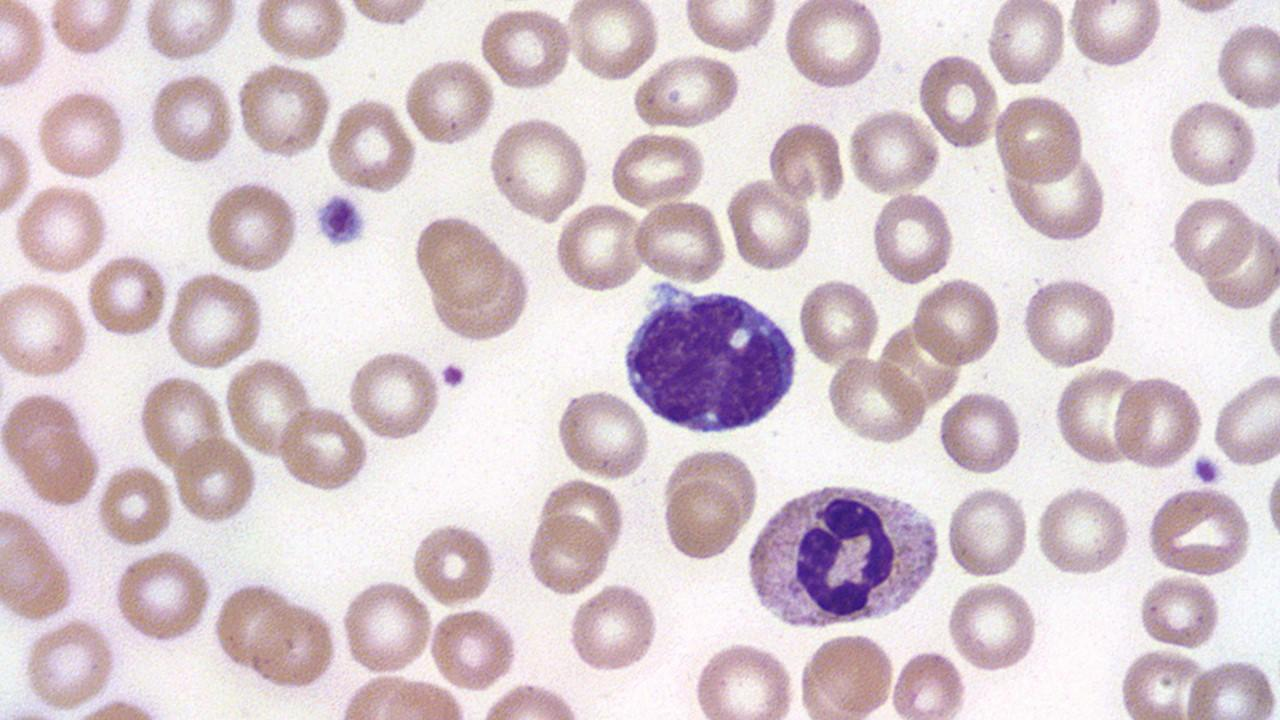Platelets: (310, 189, 370, 254), (1190, 453, 1226, 487)
RBC: (484, 113, 592, 225), (162, 270, 268, 370), (1144, 485, 1254, 577), (234, 62, 334, 163), (426, 255, 536, 345), (1018, 272, 1118, 370), (338, 576, 434, 678), (112, 548, 213, 644), (202, 177, 302, 273), (782, 0, 886, 92), (1112, 370, 1204, 474), (345, 346, 443, 443), (554, 385, 652, 482), (1051, 364, 1141, 469), (1034, 482, 1132, 578), (1008, 150, 1108, 244), (222, 356, 314, 458), (822, 356, 928, 444), (20, 618, 117, 714), (410, 210, 508, 305), (136, 372, 226, 475), (13, 182, 109, 278), (944, 578, 1040, 674), (797, 628, 898, 718), (0, 280, 90, 381), (552, 202, 648, 296), (992, 92, 1086, 188), (566, 580, 660, 676), (145, 71, 238, 168), (724, 176, 816, 274), (402, 54, 496, 149), (34, 89, 129, 183), (325, 97, 418, 193), (910, 274, 1003, 370), (633, 52, 745, 131), (1166, 96, 1260, 190), (690, 637, 798, 718), (276, 401, 370, 494), (246, 596, 338, 691), (915, 50, 999, 153), (426, 604, 520, 694), (478, 5, 574, 93), (944, 483, 1030, 581), (846, 108, 942, 195), (870, 190, 956, 286), (631, 198, 727, 284), (562, 0, 660, 84), (937, 386, 1024, 479), (0, 388, 89, 478), (796, 273, 880, 368), (411, 518, 498, 608), (173, 435, 258, 526), (606, 131, 707, 206), (84, 252, 168, 342), (986, 0, 1068, 92), (210, 578, 290, 672), (1168, 193, 1254, 279), (0, 524, 76, 620), (660, 477, 744, 563), (526, 508, 608, 596), (95, 460, 175, 549), (767, 116, 846, 206), (1211, 366, 1279, 470), (17, 422, 102, 505), (1202, 221, 1278, 313), (1066, 2, 1166, 71), (1136, 572, 1222, 650), (1114, 647, 1208, 717), (140, 1, 241, 64), (251, 1, 349, 64), (1213, 18, 1279, 111), (890, 646, 969, 720), (1182, 656, 1278, 716), (680, 1, 780, 56), (46, 1, 136, 60), (0, 2, 51, 93), (0, 121, 32, 223), (342, 0, 436, 28), (1262, 462, 1280, 548)
WBC: (742, 476, 944, 632), (620, 279, 802, 439)
